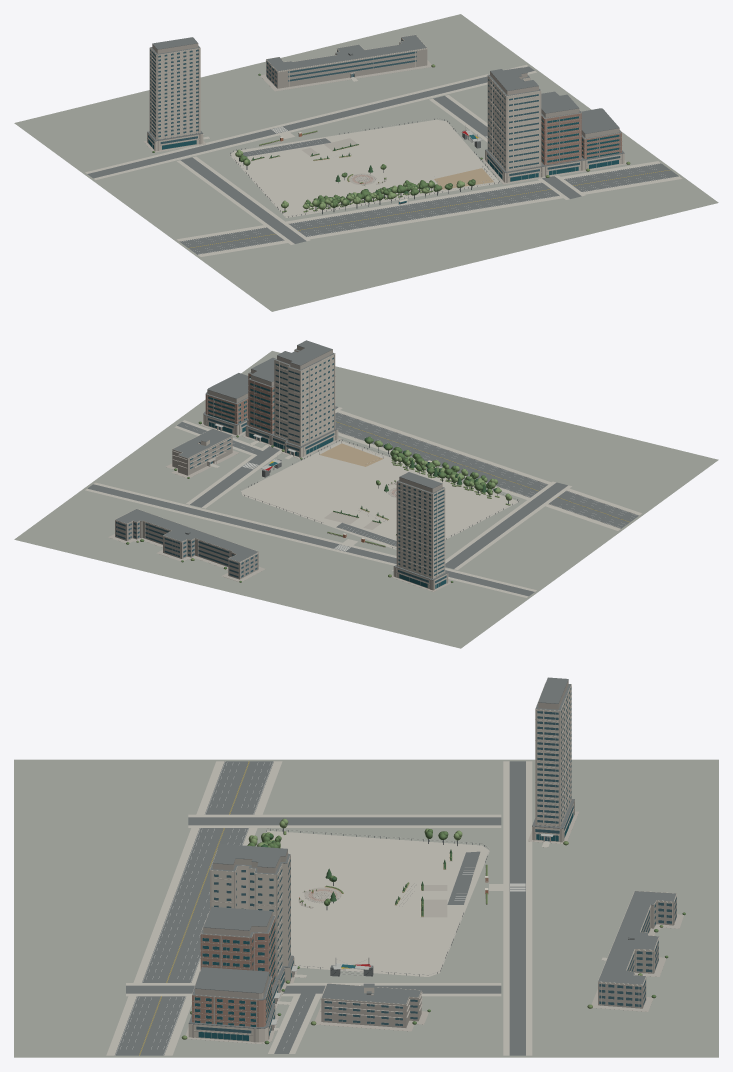
3 views of the same model, one above another, from view 1: azimuth 30°, elevation 25°; view 2: azimuth 150°, elevation 25°; view 3: azimuth 270°, elevation 25° (orthographic). The views are drawn at different scales.
Parts seen in each view (by area): view 1: ground, walk, road, contextWarm, contextStone, contextRoof, glass, contextBrick, artglass (×2), cream (×2), courtyardStone (×2), frame (×2) (+4 smaller); view 2: ground, walk, road, contextWarm, contextStone, contextRoof, glass, contextBrick, artglass (×2), cream (×2), treeMid, soil (+2 smaller); view 3: ground, walk, road, contextRoof, contextStone, contextWarm, glass, contextBrick, courtyardStone (×2), frame (×2), artglass, cream (×2) (+1 smaller).
Boxes of the visible parts, bbox=[...] form: ground: bbox=[14, 14, 718, 311]; walk: bbox=[85, 64, 682, 256]; road: bbox=[87, 66, 678, 254]; contextWarm: bbox=[148, 34, 624, 182]; contextStone: bbox=[144, 38, 622, 184]; contextRoof: bbox=[147, 35, 624, 172]; glass: bbox=[150, 40, 538, 168]; contextBrick: bbox=[541, 113, 621, 165]; artglass (×2): bbox=[148, 116, 619, 204]; cream (×2): bbox=[150, 48, 679, 254]; courtyardStone (×2): bbox=[260, 60, 626, 185]; frame (×2): bbox=[148, 52, 618, 216]; ground: bbox=[14, 351, 718, 648]; walk: bbox=[85, 407, 641, 597]; road: bbox=[87, 406, 638, 596]; contextWarm: bbox=[115, 349, 448, 590]; contextStone: bbox=[115, 345, 450, 591]; contextRoof: bbox=[115, 340, 447, 580]; glass: bbox=[116, 357, 444, 578]; contextBrick: bbox=[205, 373, 274, 433]; artglass (×2): bbox=[208, 376, 446, 588]; cream (×2): bbox=[115, 358, 638, 577]; treeMid: bbox=[365, 436, 492, 494]; soil: bbox=[319, 443, 383, 523]; ground: bbox=[14, 759, 718, 1057]; walk: bbox=[106, 761, 532, 1055]; road: bbox=[115, 761, 525, 1055]; contextRoof: bbox=[188, 677, 676, 1028]; contextStone: bbox=[188, 680, 676, 1042]; contextWarm: bbox=[188, 682, 676, 1042]; glass: bbox=[214, 687, 676, 1025]; contextBrick: bbox=[192, 918, 275, 1027]; courtyardStone (×2): bbox=[185, 885, 683, 1043]; frame (×2): bbox=[195, 811, 671, 1040]; artglass: bbox=[195, 922, 275, 1026]; cream (×2): bbox=[114, 700, 676, 1055].
Size of the model in its own units: 340 by 72.83 by 340.
27 materials, 1 textured.
